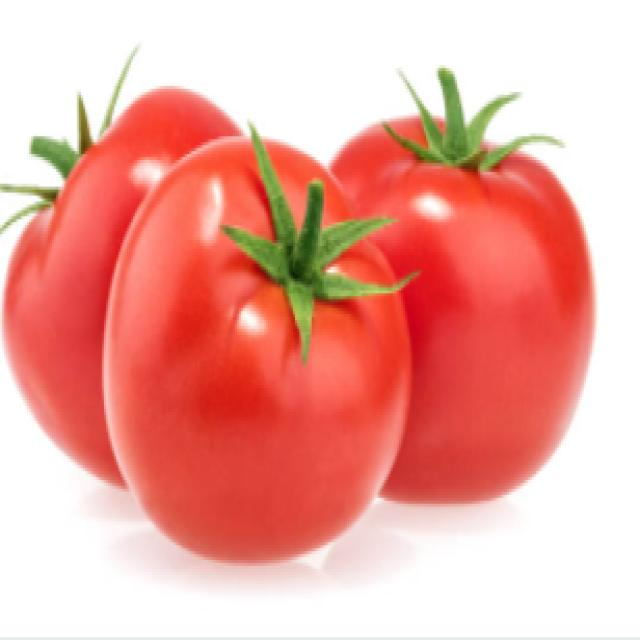Tomato: (111, 129, 402, 567), (344, 89, 594, 523)
